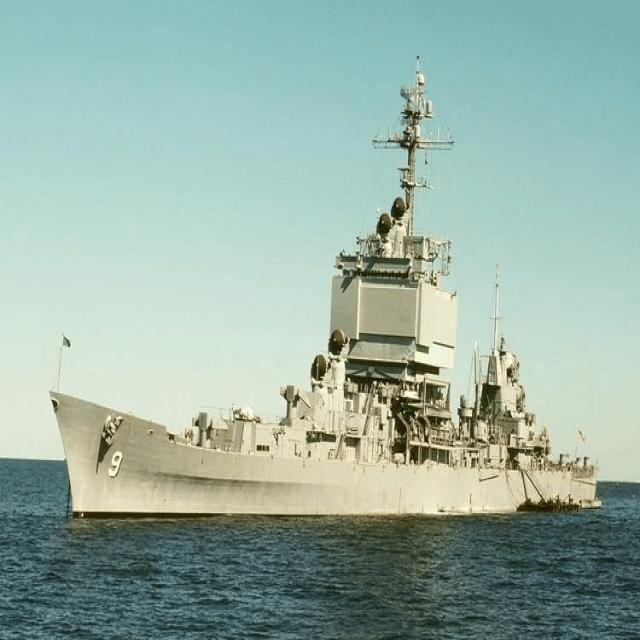navalvessels: (31, 56, 611, 524)
